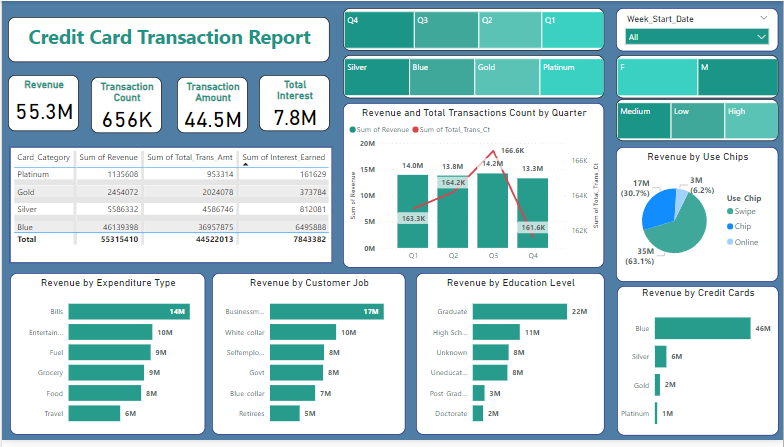

Layout of this report page (visuals, bound fields, positions):
{"tool":"powerbi","page":{"name":"CC transaction","canvas":[1280,720],"ordinal":1},"visuals":[{"type":"textbox","box":[9.9,26.9,527.2,73.7],"z":0},{"type":"lineStackedColumnComboChart","title":"Revenue and Total Transactions Count by Quarter","fields":{"Y":["Sum(cctb credit_card.Revenue)"],"Category":["cctb credit_card.Qtr"],"Y2":["Sum(cctb credit_card.Total_Trans_Ct)"]},"box":[559.4,168,428.3,270.4],"z":1000},{"type":"barChart","title":"Revenue by Expenditure Type","fields":{"Y":["Sum(cctb credit_card.Revenue)"],"Category":["cctb credit_card.Exp_Type"]},"box":[12.8,445,320.3,265],"z":2000},{"type":"barChart","title":"Revenue by Education Level","fields":{"Y":["Sum(cctb credit_card.Revenue)"],"Category":["cctb customer.Education_Level"]},"box":[678.9,445,309,265],"z":3000},{"type":"barChart","title":"Revenue by Customer Job","fields":{"Y":["Sum(cctb credit_card.Revenue)"],"Category":["cctb customer.Customer_Job"]},"box":[344.4,445,317.5,265],"z":4000},{"type":"barChart","title":"Revenue by Credit Cards","fields":{"Y":["Sum(cctb credit_card.Revenue)"],"Category":["cctb credit_card.Card_Category"]},"box":[1007.7,467.7,265,245.2],"z":5000},{"type":"pieChart","title":"Revenue by Use Chips","fields":{"Category":["cctb credit_card.Use_Chip"],"Y":["Sum(cctb credit_card.Revenue)"]},"box":[1006.3,239.5,266.5,221.1],"z":6000},{"type":"tableEx","fields":{"Values":["cctb credit_card.Card_Category","Sum(cctb credit_card.Revenue)","Sum(cctb credit_card.Total_Trans_Amt)","Sum(cctb credit_card.Interest_Earned)"]},"box":[13.1,239.3,527.7,190.1],"z":7000},{"type":"card","title":"Revenue","fields":{"Values":["Sum(cctb credit_card.Revenue)"]},"box":[9.9,121.9,116.2,92.1],"z":8000},{"type":"card","title":"Transaction Amount","fields":{"Values":["Sum(cctb credit_card.Total_Trans_Amt)"]},"box":[286.3,124.7,116.2,92.1],"z":9000},{"type":"card","title":"Total Interest","fields":{"Values":["Sum(cctb credit_card.Interest_Earned)"]},"box":[420.9,121.9,116.2,92.1],"z":10000},{"type":"card","title":"Transaction Count","fields":{"Values":["Sum(cctb credit_card.Total_Trans_Ct)"]},"box":[146,124.7,116.2,92.1],"z":11000},{"type":"slicer","fields":{"Values":["cctb credit_card.Week_Start_Date"]},"box":[1006.3,11.3,266.5,70.9],"z":12000},{"type":"treemap","fields":{"Group":["cctb credit_card.Qtr"],"Values":["Avg(cctb customer.Client_Num)"]},"box":[559.4,11.8,428.3,70],"z":13000},{"type":"treemap","fields":{"Group":["cctb customer.Gender"],"Values":["Avg(cctb customer.Client_Num)"]},"box":[1006.3,89.3,266.5,70.9],"z":14000},{"type":"treemap","fields":{"Group":["cctb credit_card.Card_Category"],"Values":["Avg(cctb customer.Client_Num)"]},"box":[559.4,89,428.3,70.6],"z":15000},{"type":"treemap","fields":{"Group":["cctb customer.IncomeGroup"],"Values":["Avg(cctb customer.Client_Num)"]},"box":[1006.3,160.2,266.5,69.4],"z":16000}]}

Visuals, with their boxes in screenshot pixels (x1, y1, x2, y2), scaled from the page's 1280x720 canvas onto the 784x447 screenshot:
textbox: 6 17 329 62
"Revenue and Total Transactions Count by Quarter" lineStackedColumnComboChart: 343 104 605 272
"Revenue by Expenditure Type" barChart: 8 276 204 441
"Revenue by Education Level" barChart: 416 276 605 441
"Revenue by Customer Job" barChart: 211 276 405 441
"Revenue by Credit Cards" barChart: 617 290 780 443
"Revenue by Use Chips" pieChart: 616 149 780 286
tableEx - cctb credit_card.Card_Category x Sum(cctb credit_card.Revenue): 8 149 331 267
"Revenue" card: 6 76 77 133
"Transaction Amount" card: 175 77 247 135
"Total Interest" card: 258 76 329 133
"Transaction Count" card: 89 77 161 135
slicer - cctb credit_card.Week_Start_Date: 616 7 780 51
treemap - cctb credit_card.Qtr x Avg(cctb customer.Client_Num): 343 7 605 51
treemap - cctb customer.Gender x Avg(cctb customer.Client_Num): 616 55 780 99
treemap - cctb credit_card.Card_Category x Avg(cctb customer.Client_Num): 343 55 605 99
treemap - cctb customer.IncomeGroup x Avg(cctb customer.Client_Num): 616 99 780 143
